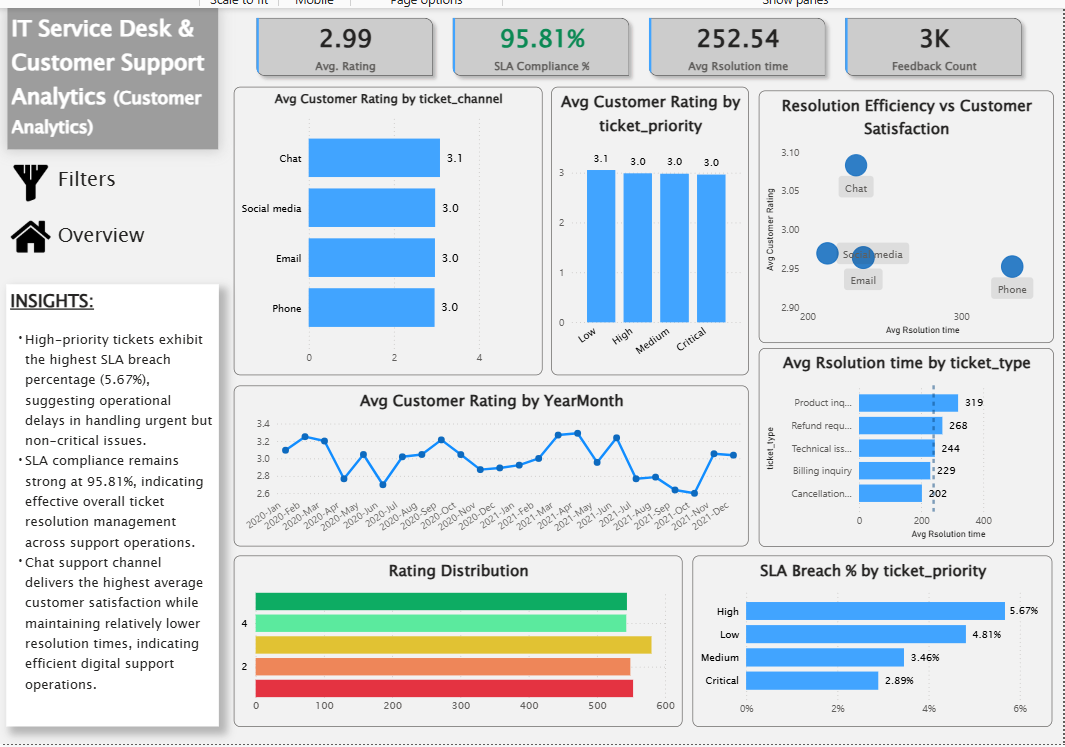

This screenshot's page, from the dashboard's own definition file:
{"tool":"powerbi","page":{"name":"Customer Analysis","canvas":[1300,900],"ordinal":2},"visuals":[{"type":"textbox","box":[8.8,0,257.9,172.9],"z":0},{"type":"cardVisual","fields":{"Data":["Measure_table.Avg Customer Rating","Measure_table.SLA Compliance %","Measure_table.Avg Rsolution time","Measure_table.Feedback Count"]},"box":[277.2,0,1010.9,100.5],"z":1000},{"type":"clusteredBarChart","fields":{"Category":["cleaning_customer_support_tickets_v2.ticket_channel"],"Y":["Measure_table.Avg Customer Rating"]},"box":[285.8,96.3,377.5,353.1],"z":2000},{"type":"clusteredColumnChart","fields":{"Category":["cleaning_customer_support_tickets_v2.ticket_priority"],"Y":["Measure_table.Avg Customer Rating"]},"box":[674.1,96.3,241.5,353.1],"z":3000},{"type":"clusteredBarChart","fields":{"Category":["cleaning_customer_support_tickets_v2.ticket_priority"],"Y":["Measure_table.SLA Breach %"]},"box":[846.8,669.5,440.2,209.4],"z":4000},{"type":"barChart","title":"Rating Distribution","fields":{"Category":["cleaning_customer_support_tickets_v2.customer_satisfaction_rating"],"Y":["Measure_table.Total Tickets"]},"box":[285.8,669.5,548.7,209.4],"z":5000},{"type":"image","box":[9.2,186.5,56.6,55],"z":6000},{"type":"scatterChart","title":"Resolution Efficiency vs Customer Satisfaction","fields":{"Category":["cleaning_customer_support_tickets_v2.ticket_channel"],"Size":["Measure_table.Total Tickets"],"X":["Measure_table.Avg Rsolution time"],"Y":["Measure_table.Avg Customer Rating"]},"box":[927.8,100.9,360.7,308.8],"z":7000},{"type":"lineChart","fields":{"Category":["Date_Table.YearMonth"],"Y":["Measure_table.Avg Customer Rating"]},"box":[285.8,461.6,629.8,197.2],"z":8000},{"type":"textbox","box":[7.6,337.8,259.9,541.1],"z":9000},{"type":"barChart","fields":{"Category":["cleaning_customer_support_tickets_v2.ticket_type"],"Y":["Measure_table.Avg Rsolution time"]},"box":[927.8,415.8,360.7,243],"z":10000},{"type":"image","box":[9.2,255.3,56.6,48.9],"z":12000},{"type":"textbox","box":[65.7,186.5,201.8,55],"z":13000},{"type":"textbox","box":[65.7,255.3,201.8,48.9],"z":14000}]}

Visuals, with their boxes on the page's 1300x900 design canvas (x1, y1, x2, y2). These are canvas units, not pixel positions in the 1065x747 screenshot, which may show the page scaled, cropped or inside an application window:
textbox: <box>9,0,267,173</box>
cardVisual - Measure_table.Avg Customer Rating x Measure_table.SLA Compliance %: <box>277,0,1288,100</box>
clusteredBarChart - cleaning_customer_support_tickets_v2.ticket_channel x Measure_table.Avg Customer Rating: <box>286,96,663,449</box>
clusteredColumnChart - cleaning_customer_support_tickets_v2.ticket_priority x Measure_table.Avg Customer Rating: <box>674,96,916,449</box>
clusteredBarChart - cleaning_customer_support_tickets_v2.ticket_priority x Measure_table.SLA Breach %: <box>847,670,1287,879</box>
"Rating Distribution" barChart: <box>286,670,834,879</box>
image: <box>9,186,66,242</box>
"Resolution Efficiency vs Customer Satisfaction" scatterChart: <box>928,101,1288,410</box>
lineChart - Date_Table.YearMonth x Measure_table.Avg Customer Rating: <box>286,462,916,659</box>
textbox: <box>8,338,268,879</box>
barChart - cleaning_customer_support_tickets_v2.ticket_type x Measure_table.Avg Rsolution time: <box>928,416,1288,659</box>
image: <box>9,255,66,304</box>
textbox: <box>66,186,268,242</box>
textbox: <box>66,255,268,304</box>
